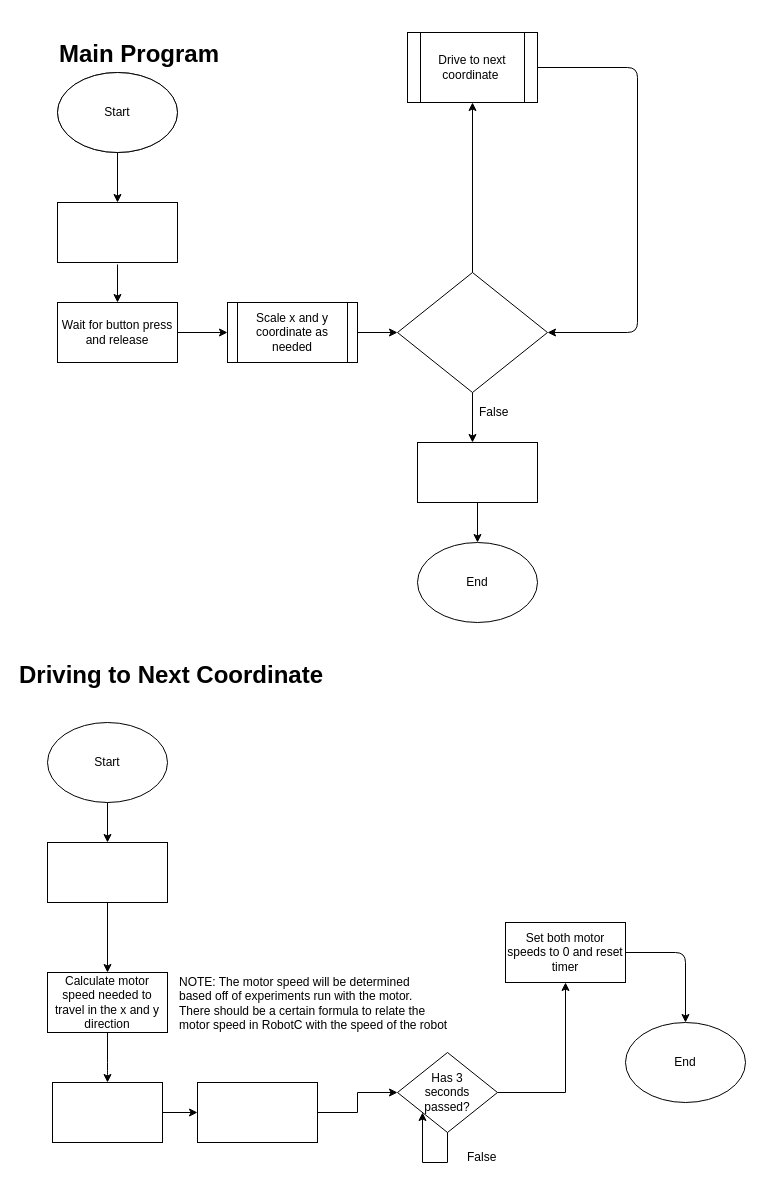
This 763x1188 diagram has some shape labels left out. Each missing label, with the centre of its shape:
"Calculate x and y distance from previous point to next point" goes at (x=107, y=872).
"Coordinates printed < 20" goes at (x=472, y=332).
"Display message" goes at (x=477, y=472).
"Get file of coordinates" goes at (x=117, y=232).
"Set arm and roller speed to certain power" goes at (x=257, y=1112).
"Start timer" goes at (x=107, y=1112).
